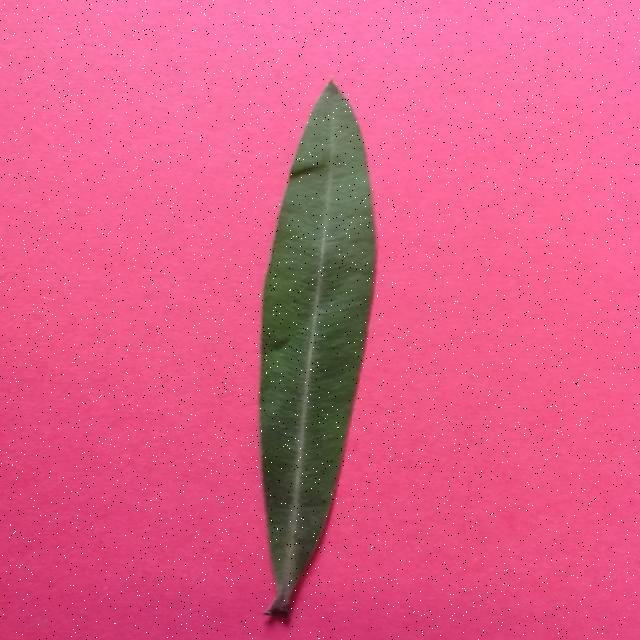foliage: (247, 76, 379, 620)
